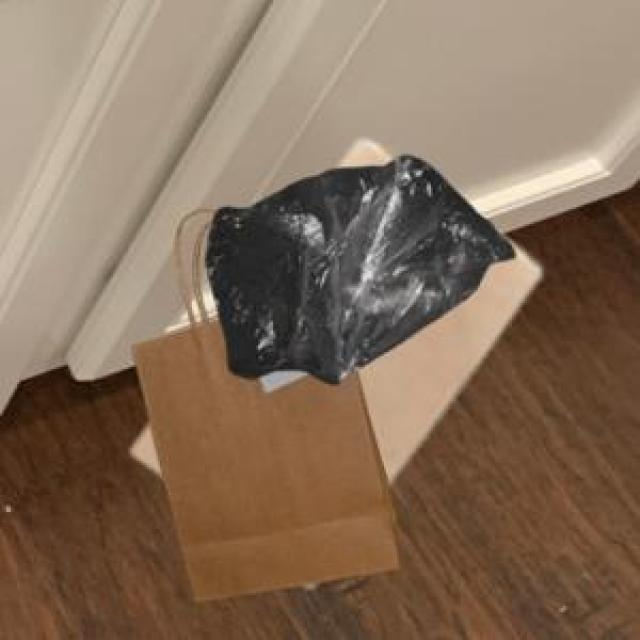paper: (128, 224, 397, 597), (128, 239, 536, 478)
